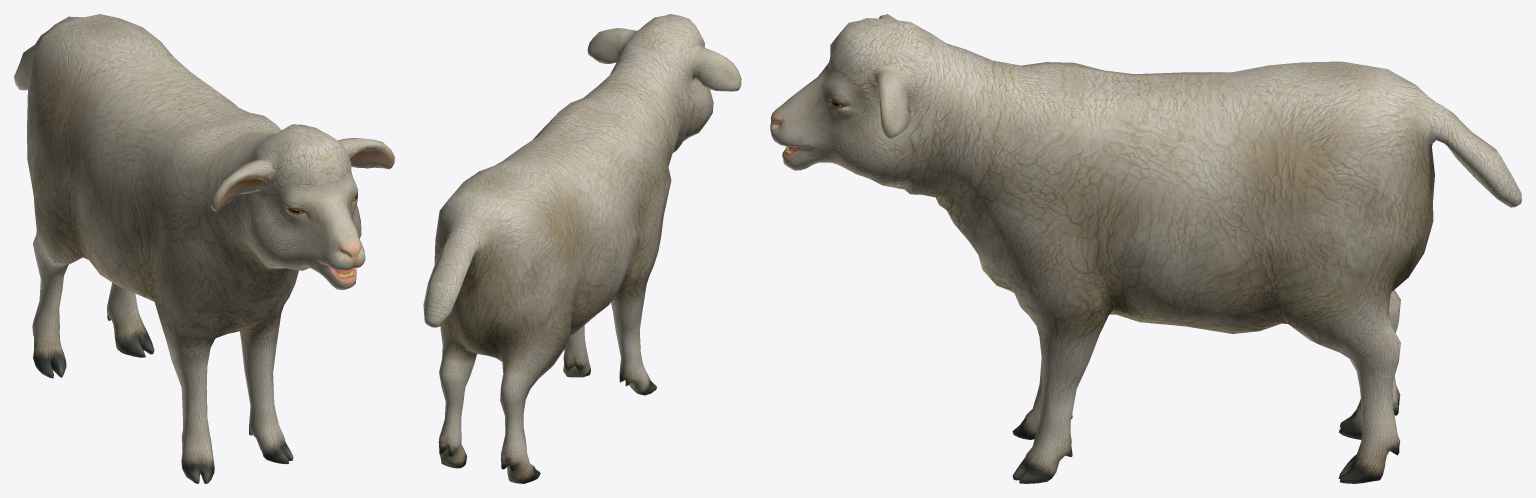
Rendered from sheep.dae.
3 renders of one model, left to right at view 1: azimuth 30°, elevation 25°; view 2: azimuth 150°, elevation 25°; view 3: azimuth 270°, elevation 25°, orthographic. The views are drawn at different scales.
Parts seen in each view (by area): view 1: SK_Sheep_LOD0; view 2: SK_Sheep_LOD0; view 3: SK_Sheep_LOD0.
Boxes of the visible parts, x1,y1,x2,y2 form: SK_Sheep_LOD0: [14, 14, 394, 483]; SK_Sheep_LOD0: [423, 14, 741, 483]; SK_Sheep_LOD0: [770, 14, 1521, 483].
Size of the model in its own units: 0.0817 by 0.2587 by 0.1644.
Materials: 1 (1 with a texture image).
